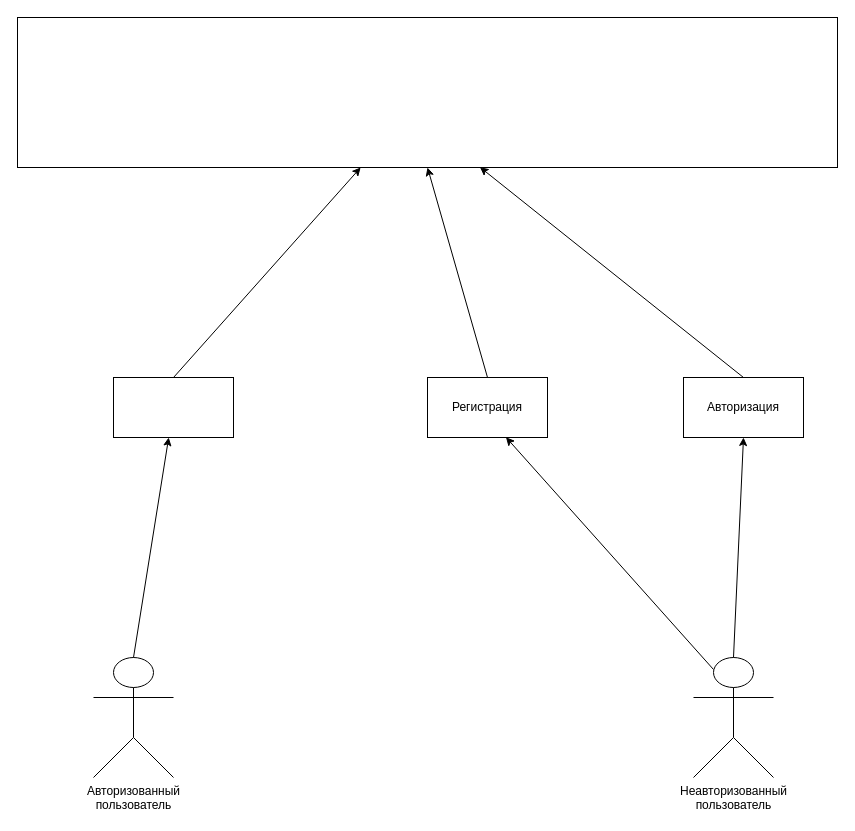
The diagram is 855 pixels wide and 831 high, and some of its shapes have lost their labels. Each missing label, with the box of its shape:
Запрос данных: (112, 376, 234, 438)
СЕРВЕР: (16, 16, 838, 168)
